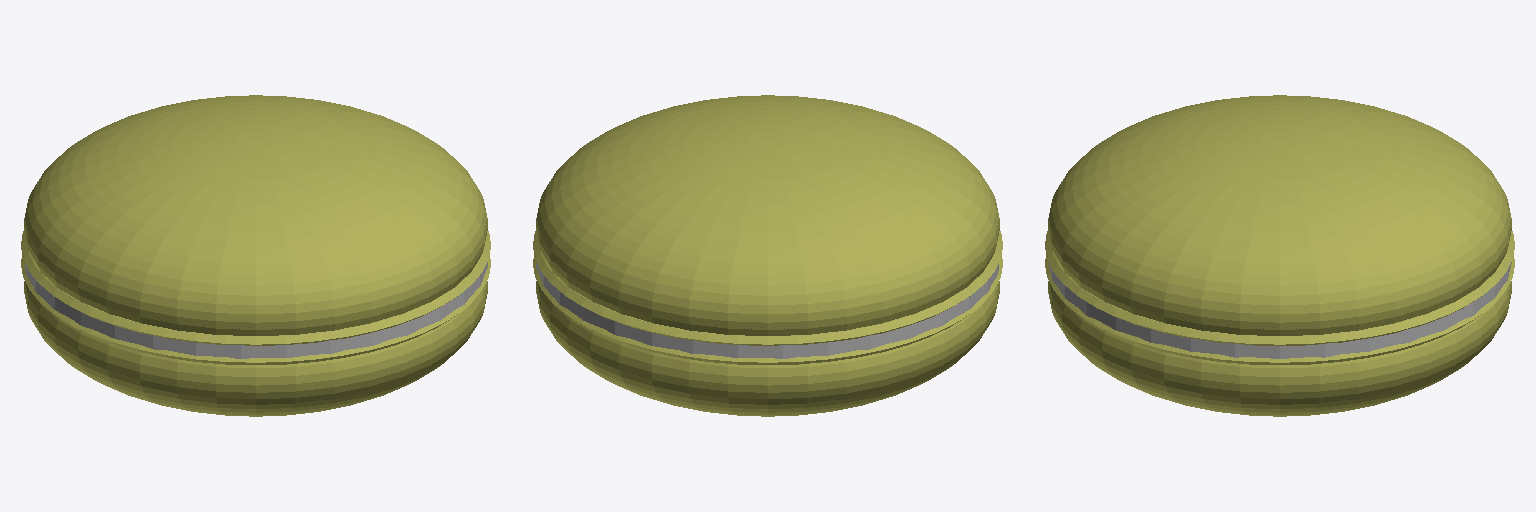
The model's file is makalong7.obj.
The picture shows the model from 3 angles: view 1: azimuth 30°, elevation 25°; view 2: azimuth 150°, elevation 25°; view 3: azimuth 270°, elevation 25°; orthographic projection.
Visible parts, largest first — view 1: Sphere_Sphere.001, Sphere.001_Sphere.002, Cylinder, Torus.001, Torus; view 2: Sphere_Sphere.001, Sphere.001_Sphere.002, Cylinder, Torus.001, Torus; view 3: Sphere_Sphere.001, Sphere.001_Sphere.002, Cylinder, Torus.001, Torus.
Boxes of the visible parts, x1=… form: Sphere_Sphere.001: x1=24, y1=95, x2=487, y2=335; Sphere.001_Sphere.002: x1=24, y1=281, x2=487, y2=416; Cylinder: x1=25, y1=262, x2=487, y2=358; Torus.001: x1=21, y1=231, x2=490, y2=345; Torus: x1=21, y1=256, x2=490, y2=364; Sphere_Sphere.001: x1=536, y1=95, x2=999, y2=335; Sphere.001_Sphere.002: x1=536, y1=281, x2=999, y2=416; Cylinder: x1=536, y1=262, x2=998, y2=358; Torus.001: x1=533, y1=231, x2=1002, y2=345; Torus: x1=533, y1=256, x2=1002, y2=364; Sphere_Sphere.001: x1=1048, y1=95, x2=1511, y2=335; Sphere.001_Sphere.002: x1=1048, y1=281, x2=1511, y2=416; Cylinder: x1=1048, y1=262, x2=1511, y2=358; Torus.001: x1=1045, y1=231, x2=1514, y2=345; Torus: x1=1045, y1=256, x2=1514, y2=364.
Size of the model in its own units: 2.02 by 1.1 by 2.02.